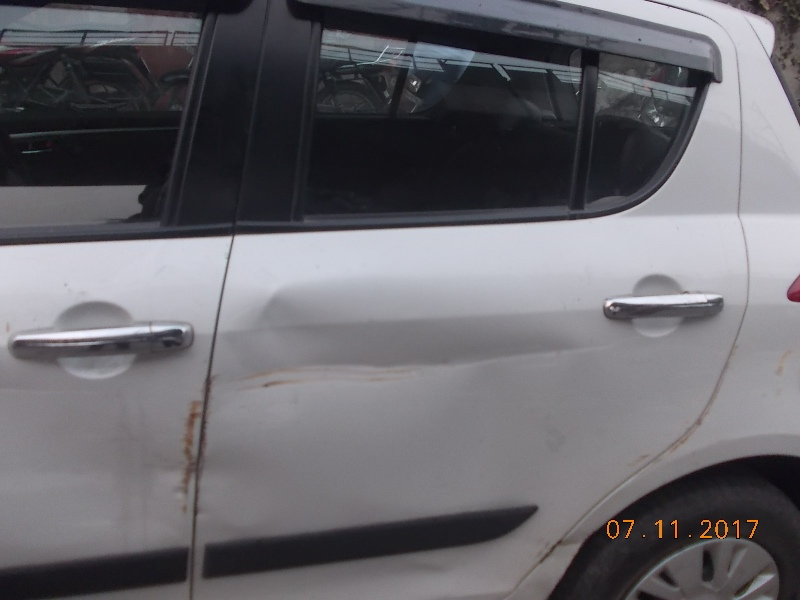Dent: (248, 280, 560, 402)
Scratch_or_spot: (171, 381, 196, 506)
